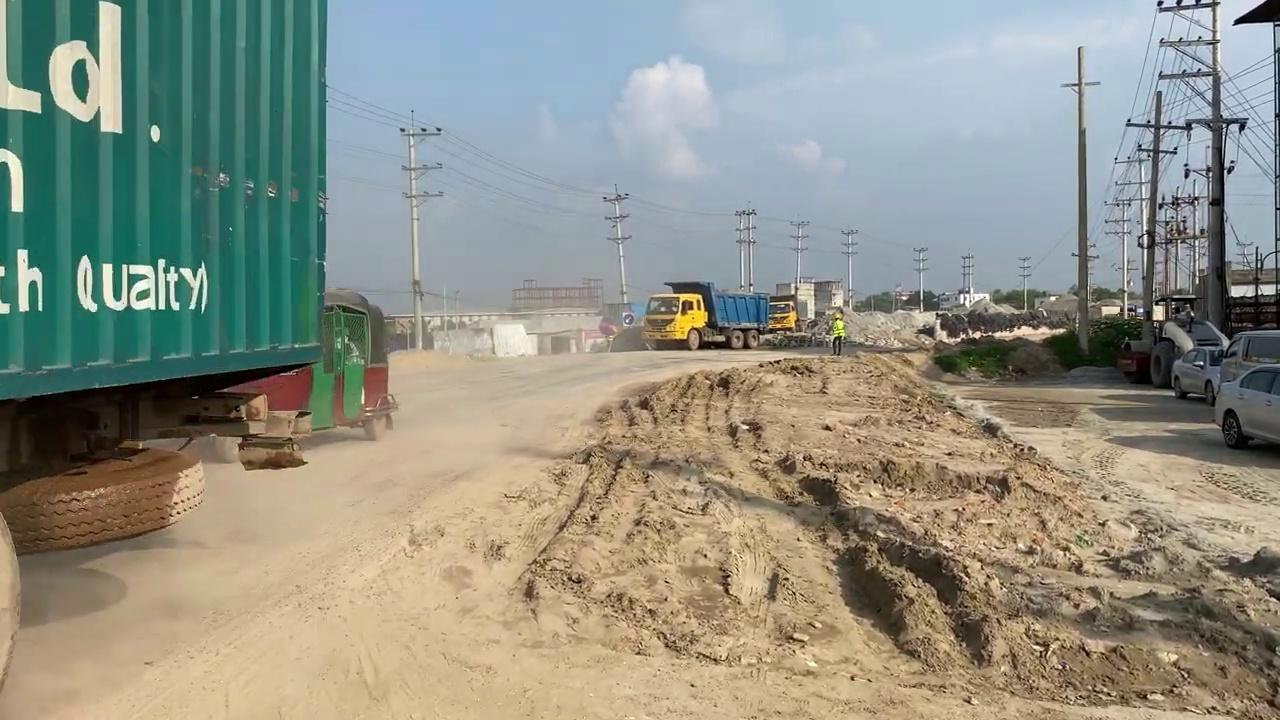Fence: (510, 278, 603, 311)
Muddy road: (513, 340, 1212, 660)
Pole: (1126, 90, 1187, 347), (1060, 45, 1101, 354), (601, 183, 633, 322), (911, 245, 928, 311)
Tree: (0, 0, 396, 685), (219, 287, 397, 455), (1116, 294, 1229, 387), (640, 280, 771, 350), (763, 299, 809, 347), (767, 299, 798, 333)
